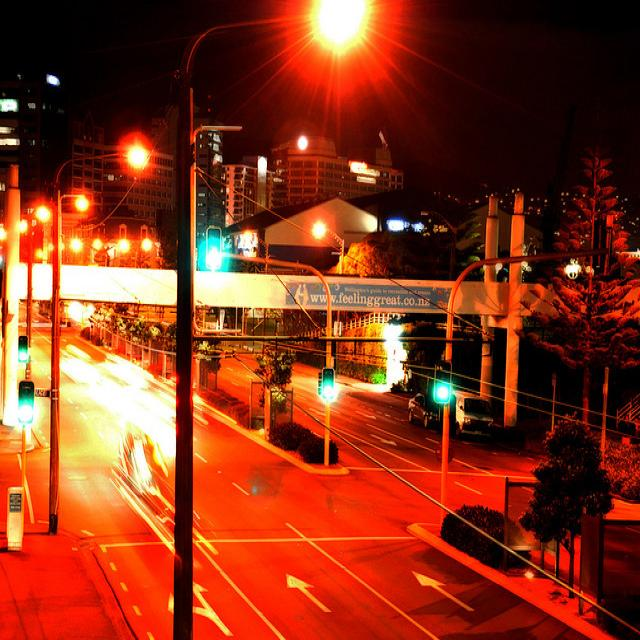Vehicle: (453, 390, 494, 442), (408, 392, 443, 428)
